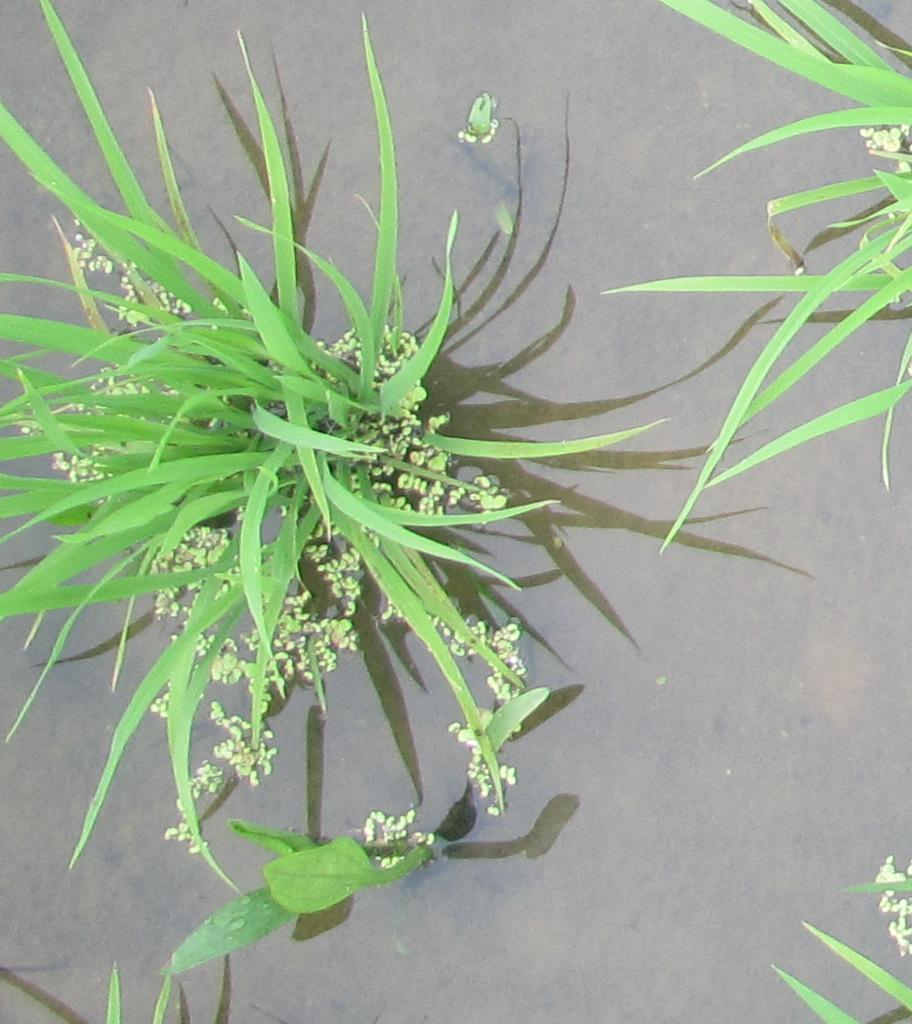Weed: (251, 830, 404, 913)
